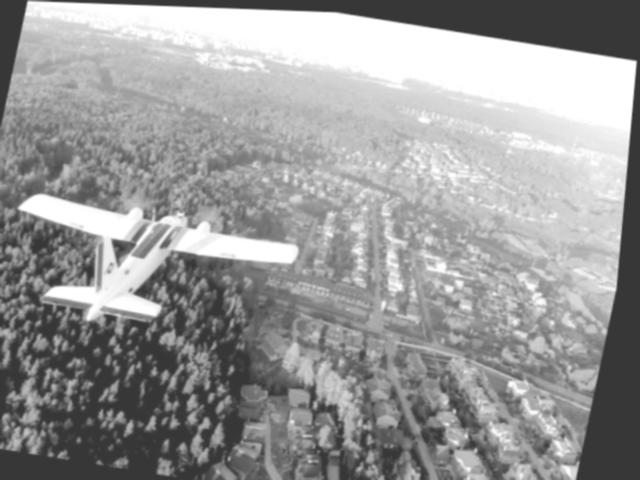hedef: (0, 173, 316, 352)
